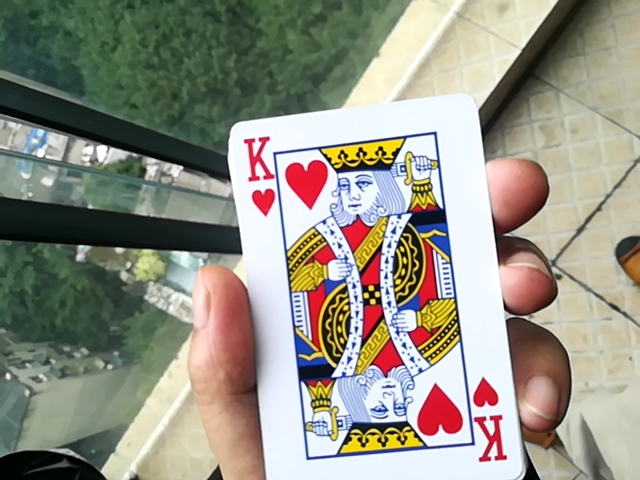hx k: (221, 94, 510, 478)
